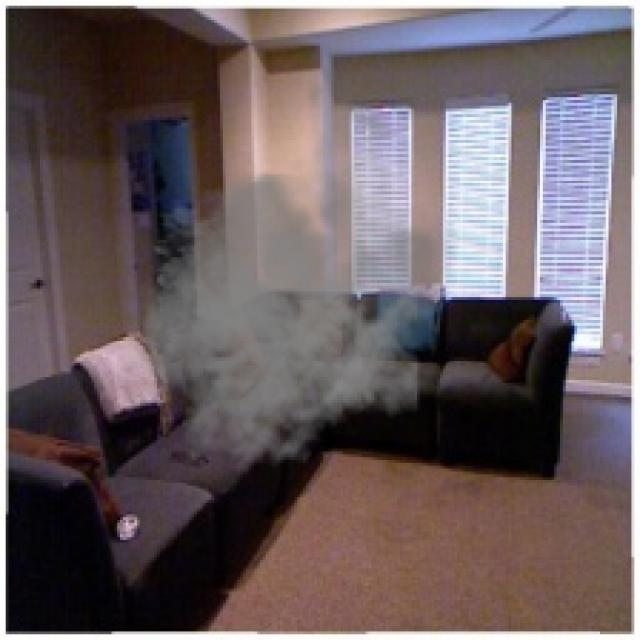smoke: (117, 66, 460, 474)
